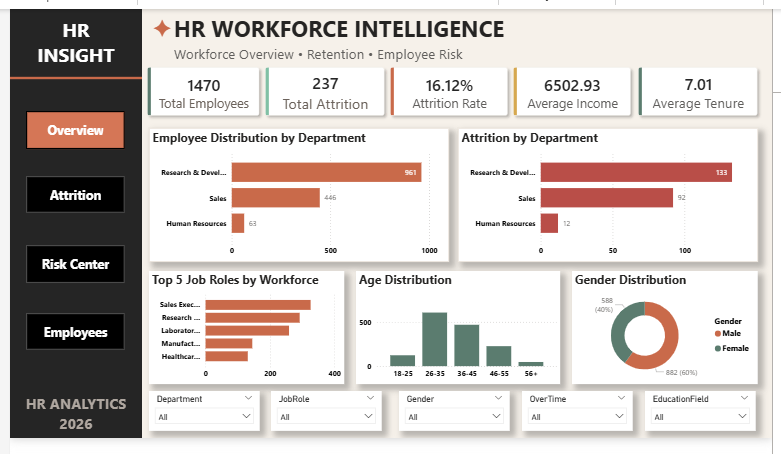

The page's visual inventory and layout, read from the dashboard file:
{"tool":"powerbi","page":{"name":"Executive Overview","canvas":[1280,720],"ordinal":0},"visuals":[{"type":"shape","box":[0,0,221.7,720.6],"z":0},{"type":"textbox","title":" HR WORKFORCE INTELLIGENCE  ","box":[265.4,6.7,658.5,90.7],"z":1000},{"type":"cardVisual","title":"Total Employees","fields":{"Data":["Employee Data.Total Employees"]},"box":[206.6,73.9,236.9,129.3],"z":2000},{"type":"textbox","box":[0,6.7,221.7,102.5],"z":3000},{"type":"shape","box":[0,109.2,221.7,13.4],"z":4000},{"type":"actionButton","title":" ▌","box":[26.9,171.3,166.3,63.8],"z":5000},{"type":"actionButton","box":[26.9,280.5,166.3,62.2],"z":6000},{"type":"actionButton","title":"Risk Center","box":[26.9,396.4,166.3,63.8],"z":7000},{"type":"actionButton","title":"Employees","box":[26.9,510.7,166.3,62.2],"z":8000},{"type":"textbox","box":[0,641.7,221.7,79],"z":9000},{"type":"cardVisual","title":"Total Employees","fields":{"Data":["Employee Data.Average Tenure"]},"box":[1031.4,73.9,248.6,129.3],"z":10000},{"type":"cardVisual","title":"Total Employees","fields":{"Data":["Employee Data.Total Attrition"]},"box":[404.8,73.9,248.6,129.3],"z":11000},{"type":"cardVisual","title":"Total Employees","fields":{"Data":["Employee Data.Attrition Rate"]},"box":[614.8,73.9,245.2,129.3],"z":12000},{"type":"cardVisual","title":"Total Employees","fields":{"Data":["Employee Data.Average Monthly Income"]},"box":[821.4,73.9,245.2,129.3],"z":13000},{"type":"clusteredBarChart","title":"Employee Distribution by Department","fields":{"Category":["Employee Data.Department"],"Y":["Employee Data.Total Employees"]},"box":[233.5,199.9,503.9,225.1],"z":14000},{"type":"clusteredBarChart","title":"Attrition by Department","fields":{"Category":["Employee Data.Department"],"Y":["Employee Data.Total Attrition"]},"box":[752.5,199.9,503.9,225.1],"z":15000},{"type":"clusteredBarChart","title":"Top 5 Job Roles by Workforce","fields":{"Category":["Employee Data.JobRole"],"Y":["Employee Data.Total Employees"]},"box":[233.5,440.1,327.6,189.8],"z":16000},{"type":"columnChart","title":"Age Distribution","fields":{"Y":["Employee Data.Total Employees"],"Category":["Employee Data.AgeGroup"]},"box":[581.2,440.1,342.7,189.8],"z":17000},{"type":"donutChart","title":"Gender Distribution","fields":{"Y":["Employee Data.Total Employees"],"Category":["Employee Data.Gender"]},"box":[944,440.1,312.4,189.8],"z":18000},{"type":"slicer","fields":{"Values":["Employee Data.Department"]},"box":[233.5,641.7,186.5,67.2],"z":19000},{"type":"slicer","fields":{"Values":["Employee Data.JobRole"]},"box":[438.4,641.7,186.5,67.2],"z":20000},{"type":"slicer","fields":{"Values":["Employee Data.Gender"]},"box":[653.4,641.7,186.5,67.2],"z":21000},{"type":"slicer","fields":{"Values":["Employee Data.OverTime"]},"box":[860.1,641.7,186.5,67.2],"z":22000},{"type":"slicer","fields":{"Values":["Employee Data.EducationField"]},"box":[1066.7,641.7,186.5,67.2],"z":23000},{"type":"textbox","box":[233.5,0,72.2,70.6],"z":24000}]}

Visuals, with their boxes on the page's 1280x720 design canvas (x1, y1, x2, y2). These are canvas units, not pixel positions in the 781x454 screenshot, which may show the page scaled, cropped or inside an application window:
shape: bbox=(0, 0, 222, 721)
" HR WORKFORCE INTELLIGENCE  " textbox: bbox=(265, 7, 924, 97)
"Total Employees" cardVisual: bbox=(207, 74, 444, 203)
textbox: bbox=(0, 7, 222, 109)
shape: bbox=(0, 109, 222, 123)
" ▌" actionButton: bbox=(27, 171, 193, 235)
actionButton: bbox=(27, 280, 193, 343)
"Risk Center" actionButton: bbox=(27, 396, 193, 460)
"Employees" actionButton: bbox=(27, 511, 193, 573)
textbox: bbox=(0, 642, 222, 721)
"Total Employees" cardVisual: bbox=(1031, 74, 1280, 203)
"Total Employees" cardVisual: bbox=(405, 74, 653, 203)
"Total Employees" cardVisual: bbox=(615, 74, 860, 203)
"Total Employees" cardVisual: bbox=(821, 74, 1067, 203)
"Employee Distribution by Department" clusteredBarChart: bbox=(234, 200, 737, 425)
"Attrition by Department" clusteredBarChart: bbox=(752, 200, 1256, 425)
"Top 5 Job Roles by Workforce" clusteredBarChart: bbox=(234, 440, 561, 630)
"Age Distribution" columnChart: bbox=(581, 440, 924, 630)
"Gender Distribution" donutChart: bbox=(944, 440, 1256, 630)
slicer - Employee Data.Department: bbox=(234, 642, 420, 709)
slicer - Employee Data.JobRole: bbox=(438, 642, 625, 709)
slicer - Employee Data.Gender: bbox=(653, 642, 840, 709)
slicer - Employee Data.OverTime: bbox=(860, 642, 1047, 709)
slicer - Employee Data.EducationField: bbox=(1067, 642, 1253, 709)
textbox: bbox=(234, 0, 306, 71)
